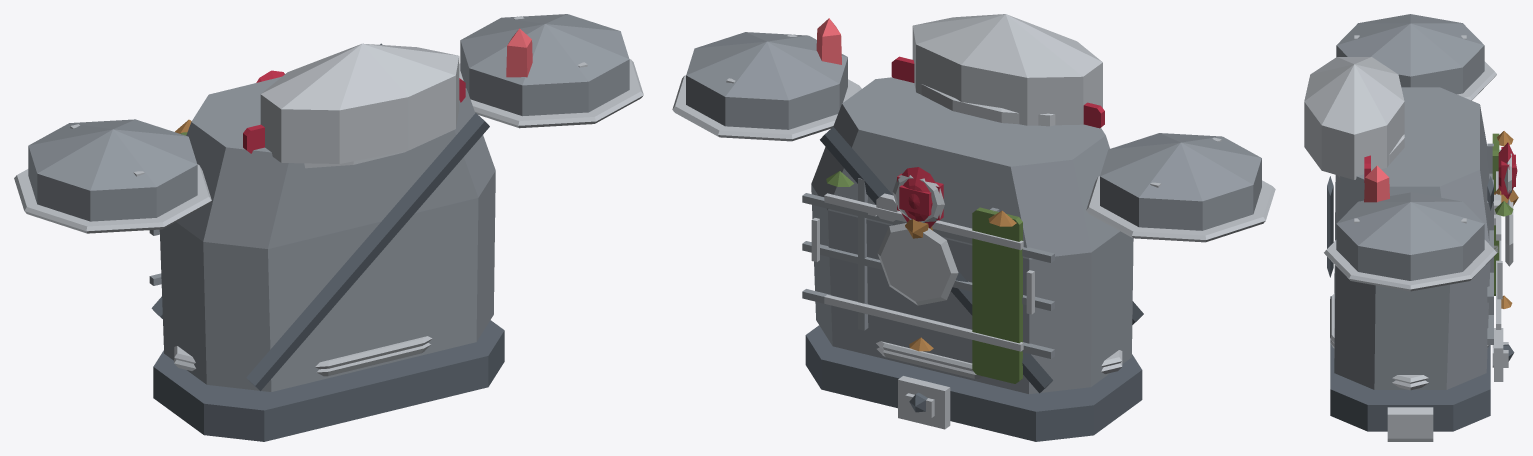
Rendered from armor_bow_s4.fbx.
3 views of the same model, side by side, from view 1: azimuth 30°, elevation 25°; view 2: azimuth 150°, elevation 25°; view 3: azimuth 270°, elevation 25° (orthographic). The views are drawn at different scales.
Parts seen in each view (by area): view 1: Chest_Body, Chest_Inner, Chest_Trim, Shoulder_L_Body, Shoulder_R_Body, Shoulder_L_Trim, Shoulder_R_Trim, Chest_Trim_Ep, Float_Float, Chest_CoreGem_An; view 2: Chest_Body, Chest_Trim, Chest_Inner, Shoulder_L_Body, Shoulder_R_Body, Chest_Attach, Shoulder_L_Trim, Shoulder_R_Trim, Chest_CoreGem_An, Chest_Trim_Ep, Float_Float, Chest_CoreGem_Re; view 3: Chest_Body, Chest_Trim, Shoulder_R_Body, Shoulder_L_Body, Chest_Inner, Shoulder_R_Trim, Float_Float, Chest_Attach, Shoulder_L_Trim, Chest_Trim_Ep, Chest_CoreGem_An, Chest_CoreGem_Re (+1 smaller).
Part boxes in pixels (box(x1,y1,x2,y2)): Chest_Body: box(149, 76, 495, 391); Chest_Inner: box(151, 43, 504, 441); Chest_Trim: box(174, 43, 459, 376); Shoulder_L_Body: box(28, 119, 197, 221); Shoulder_R_Body: box(460, 14, 629, 116); Shoulder_L_Trim: box(14, 124, 211, 233); Shoulder_R_Trim: box(459, 16, 643, 128); Chest_Trim_Ep: box(174, 336, 432, 369); Float_Float: box(506, 28, 532, 77); Chest_CoreGem_An: box(243, 78, 465, 153); Chest_Body: box(802, 77, 1133, 394); Chest_Trim: box(811, 14, 1122, 429); Chest_Inner: box(805, 126, 1143, 441); Shoulder_L_Body: box(1100, 133, 1261, 230); Shoulder_R_Body: box(686, 32, 847, 129); Chest_Attach: box(826, 171, 1022, 383); Shoulder_L_Trim: box(1086, 137, 1275, 242); Shoulder_R_Trim: box(672, 34, 861, 141); Chest_CoreGem_An: box(891, 56, 1104, 220); Chest_Trim_Ep: box(876, 341, 1122, 371); Float_Float: box(816, 18, 841, 64); Chest_CoreGem_Re: box(901, 167, 935, 228); Chest_Body: box(1334, 87, 1493, 389); Chest_Trim: box(1304, 57, 1513, 441); Shoulder_R_Body: box(1336, 192, 1484, 280); Shoulder_L_Body: box(1336, 14, 1484, 94); Chest_Inner: box(1327, 176, 1514, 431); Shoulder_R_Trim: box(1324, 218, 1496, 291); Float_Float: box(1364, 165, 1389, 202); Chest_Attach: box(1492, 133, 1513, 295); Shoulder_L_Trim: box(1354, 35, 1496, 100); Chest_Trim_Ep: box(1330, 293, 1428, 383); Chest_CoreGem_An: box(1364, 147, 1515, 194); Chest_CoreGem_Re: box(1498, 142, 1517, 199).
Bounding box in the file's own units: 446 × 261 × 161.
